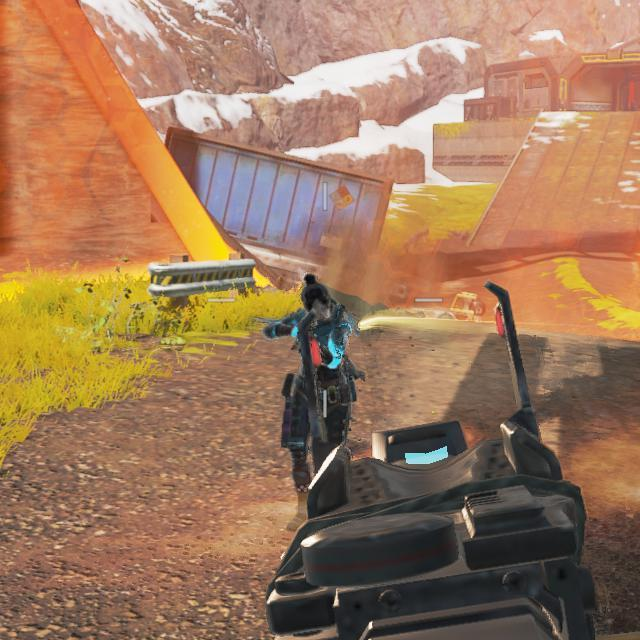avatar: (260, 273, 359, 532)
